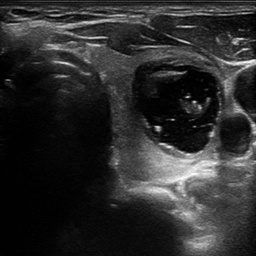mass: (135, 60, 222, 155)
